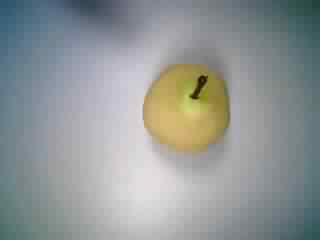pear: (136, 50, 242, 157)
